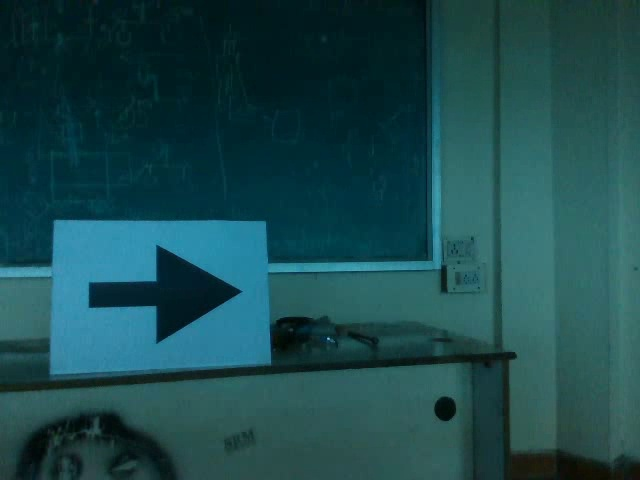Right: (80, 240, 249, 352)
